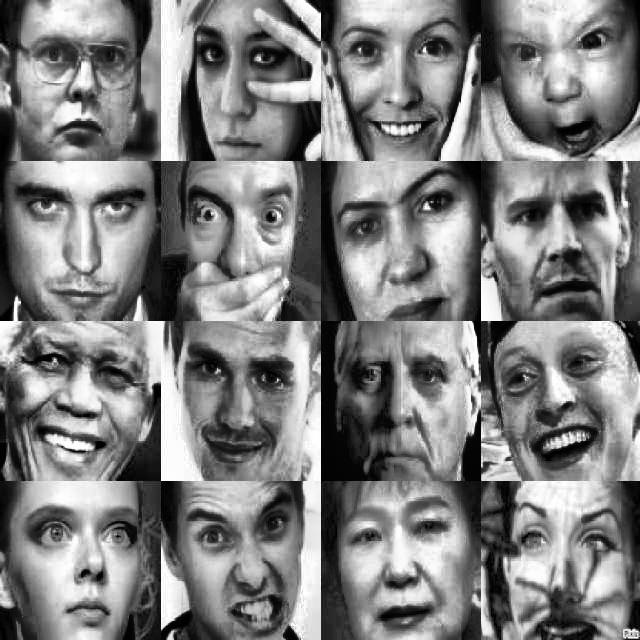angry: (326, 168, 474, 324), (490, 4, 633, 158), (333, 329, 473, 486), (171, 485, 313, 637), (6, 16, 146, 156)
fear: (3, 489, 141, 638), (497, 494, 631, 640), (172, 181, 310, 319), (492, 184, 623, 321)
happy: (165, 326, 321, 480), (4, 336, 152, 479), (487, 328, 629, 472), (328, 16, 470, 154)
neutral: (7, 170, 145, 312), (183, 23, 311, 161)
sad: (336, 495, 487, 639)
